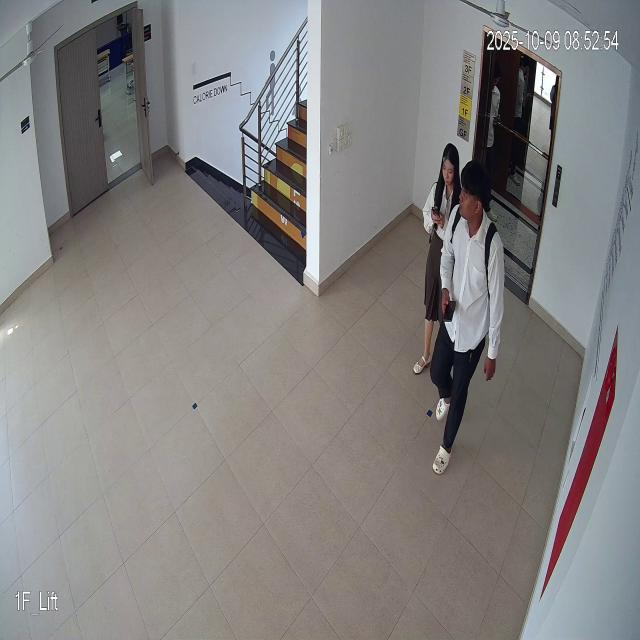face: (456, 162, 493, 235), (439, 134, 459, 193)
